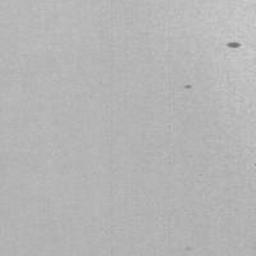Inclusion: (227, 41, 242, 49), (183, 84, 193, 91)
